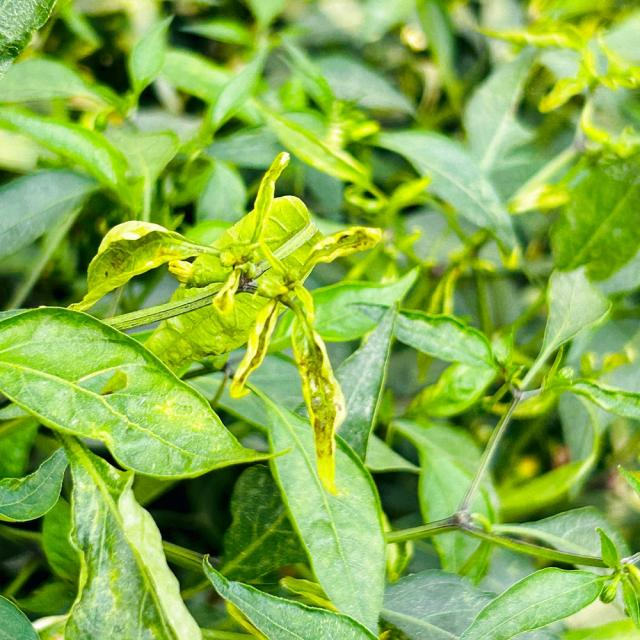Chilli_Leaf_Curl: (1, 1, 638, 638), (68, 150, 384, 492), (0, 304, 292, 481), (457, 526, 639, 638)
